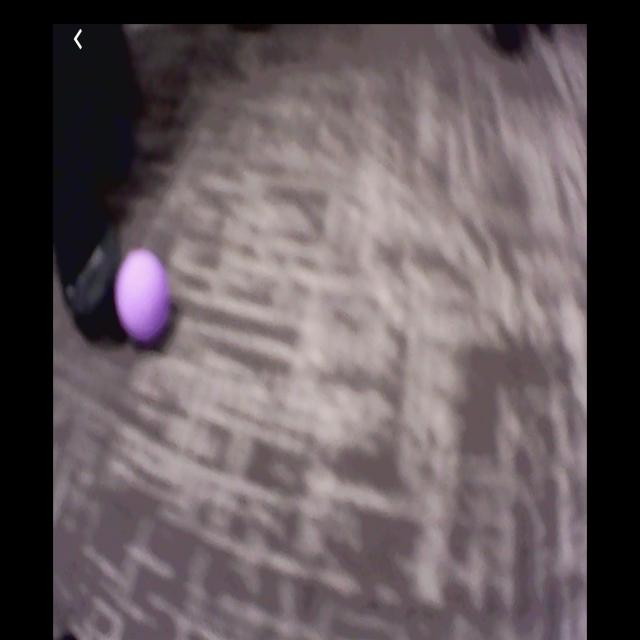ball: (114, 247, 171, 345)
